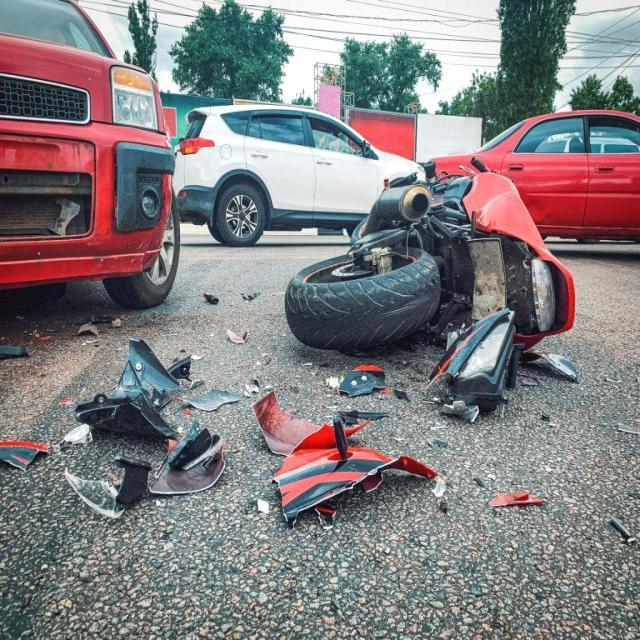accident: (68, 168, 574, 524)
